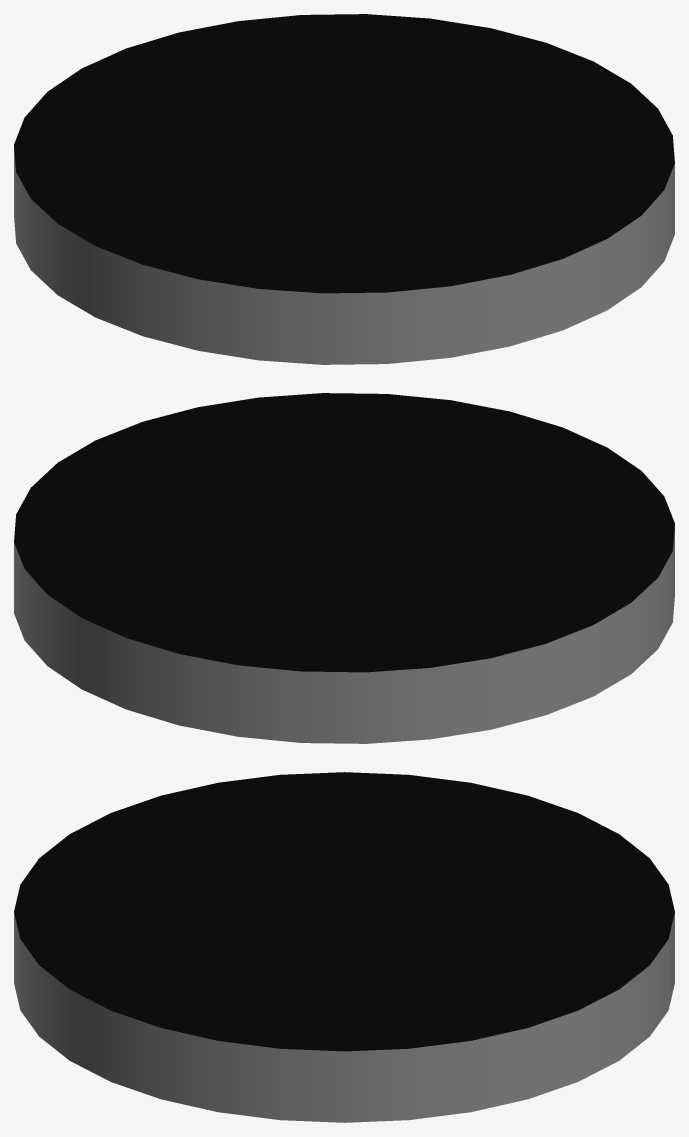
File: Schietschijf2.FBX
3 views of the same model, one above another, from view 1: azimuth 30°, elevation 25°; view 2: azimuth 150°, elevation 25°; view 3: azimuth 270°, elevation 25° (orthographic).
Visible parts, largest first — view 1: Cylinder001; view 2: Cylinder001; view 3: Cylinder001.
Boxes of the visible parts, bbox=[...] form: Cylinder001: bbox=[14, 14, 674, 364]; Cylinder001: bbox=[14, 393, 674, 743]; Cylinder001: bbox=[14, 772, 674, 1122].
Size of the model in its own units: 79.82 by 79.82 by 9.51.
3 materials, 1 textured.
